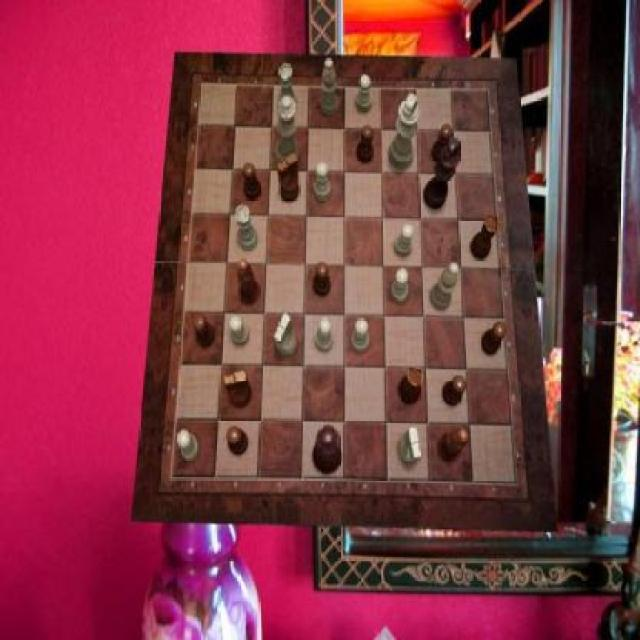bishop: (237, 260, 260, 306), (438, 428, 469, 462)
black-bishop: (424, 138, 462, 211)
black-king: (277, 154, 299, 203), (225, 369, 252, 407)
black-knight: (482, 322, 508, 356), (431, 125, 452, 163), (193, 312, 214, 347), (443, 376, 467, 406), (243, 163, 261, 201), (357, 126, 374, 165), (226, 428, 249, 455), (314, 262, 331, 296)
black-pawn: (314, 426, 341, 476)
black-queen: (471, 214, 498, 259), (399, 366, 423, 405)
black-rook: (431, 263, 460, 311), (320, 59, 339, 116)
white-bishop: (389, 94, 420, 168)
white-king: (274, 314, 297, 358), (398, 426, 422, 464)
white-knight: (177, 431, 200, 463), (394, 223, 414, 257), (314, 163, 331, 202), (351, 319, 370, 353), (315, 317, 333, 351), (356, 74, 372, 112), (229, 317, 249, 346), (391, 268, 408, 302)
white-pawn: (276, 97, 300, 169)
white-queen: (235, 204, 258, 250), (279, 63, 296, 114)
